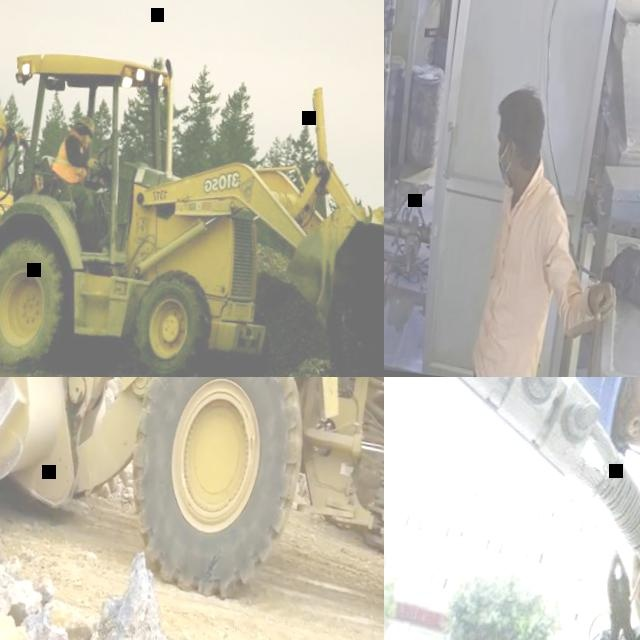Hardhat: (566, 377, 640, 457), (75, 113, 97, 133)
Mask: (495, 146, 512, 184)
NO-Hardhat: (495, 82, 548, 130)
NO-Mask: (78, 134, 90, 150)
NO-Safety Vest: (467, 176, 564, 377)
Person: (466, 80, 640, 377), (512, 377, 640, 640), (40, 110, 117, 254)
Safety Vest: (50, 128, 92, 183)
machinery: (0, 0, 384, 377), (0, 377, 384, 640)
